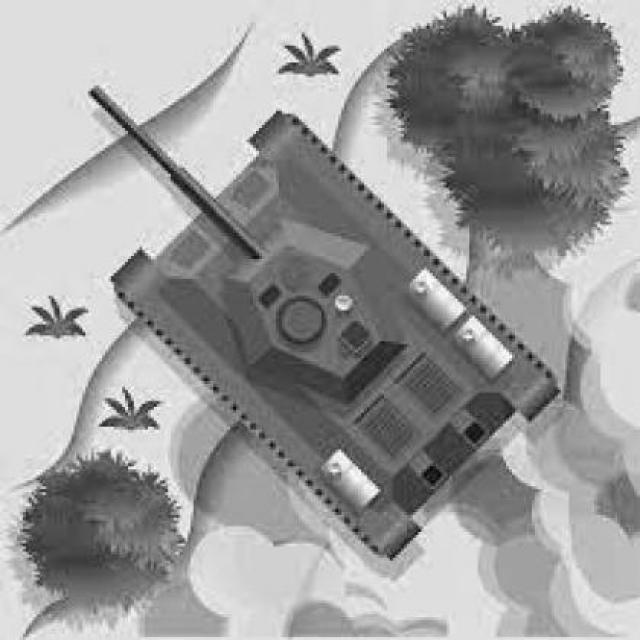tank: (85, 85, 563, 566)
